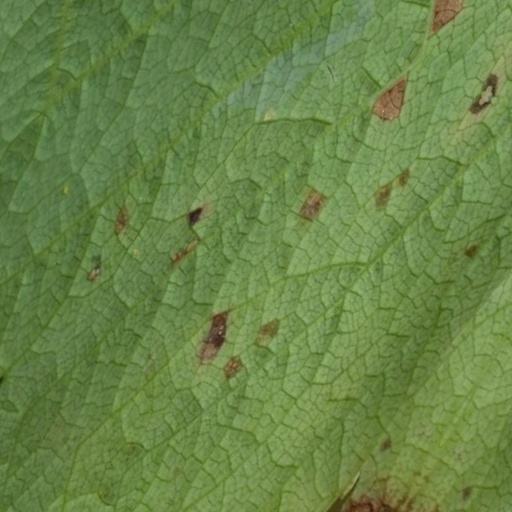Angular Leafspot: (14, 62, 511, 511)
